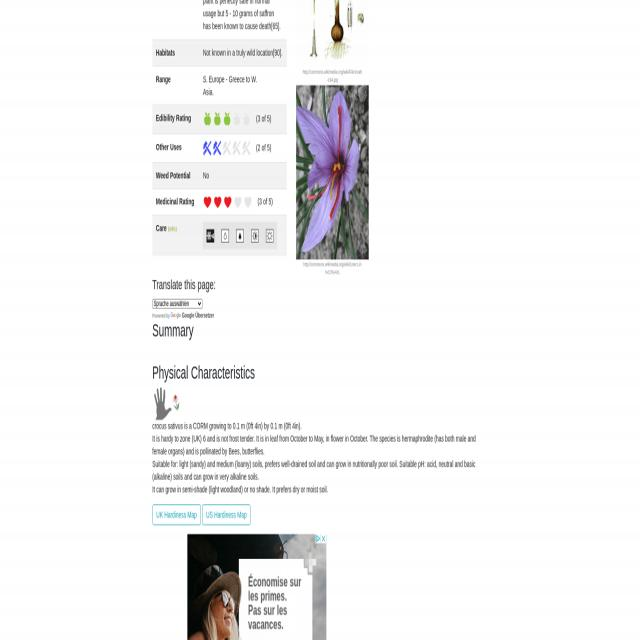button: (296, 88, 369, 262), (296, 0, 369, 79), (152, 507, 201, 527), (202, 507, 251, 527), (154, 389, 172, 422), (232, 114, 242, 130), (232, 143, 242, 159), (242, 114, 251, 130), (242, 143, 251, 159), (203, 114, 211, 130), (213, 114, 221, 130), (223, 114, 231, 130), (203, 143, 211, 159), (213, 143, 221, 159), (223, 143, 231, 159), (206, 231, 214, 246), (221, 231, 229, 246), (236, 231, 244, 246), (251, 231, 259, 246), (172, 398, 180, 413), (202, 199, 212, 210), (266, 231, 273, 246), (213, 199, 222, 210), (223, 199, 232, 210), (170, 314, 182, 322), (234, 199, 242, 210), (244, 199, 252, 210)
field: (152, 301, 202, 311)
